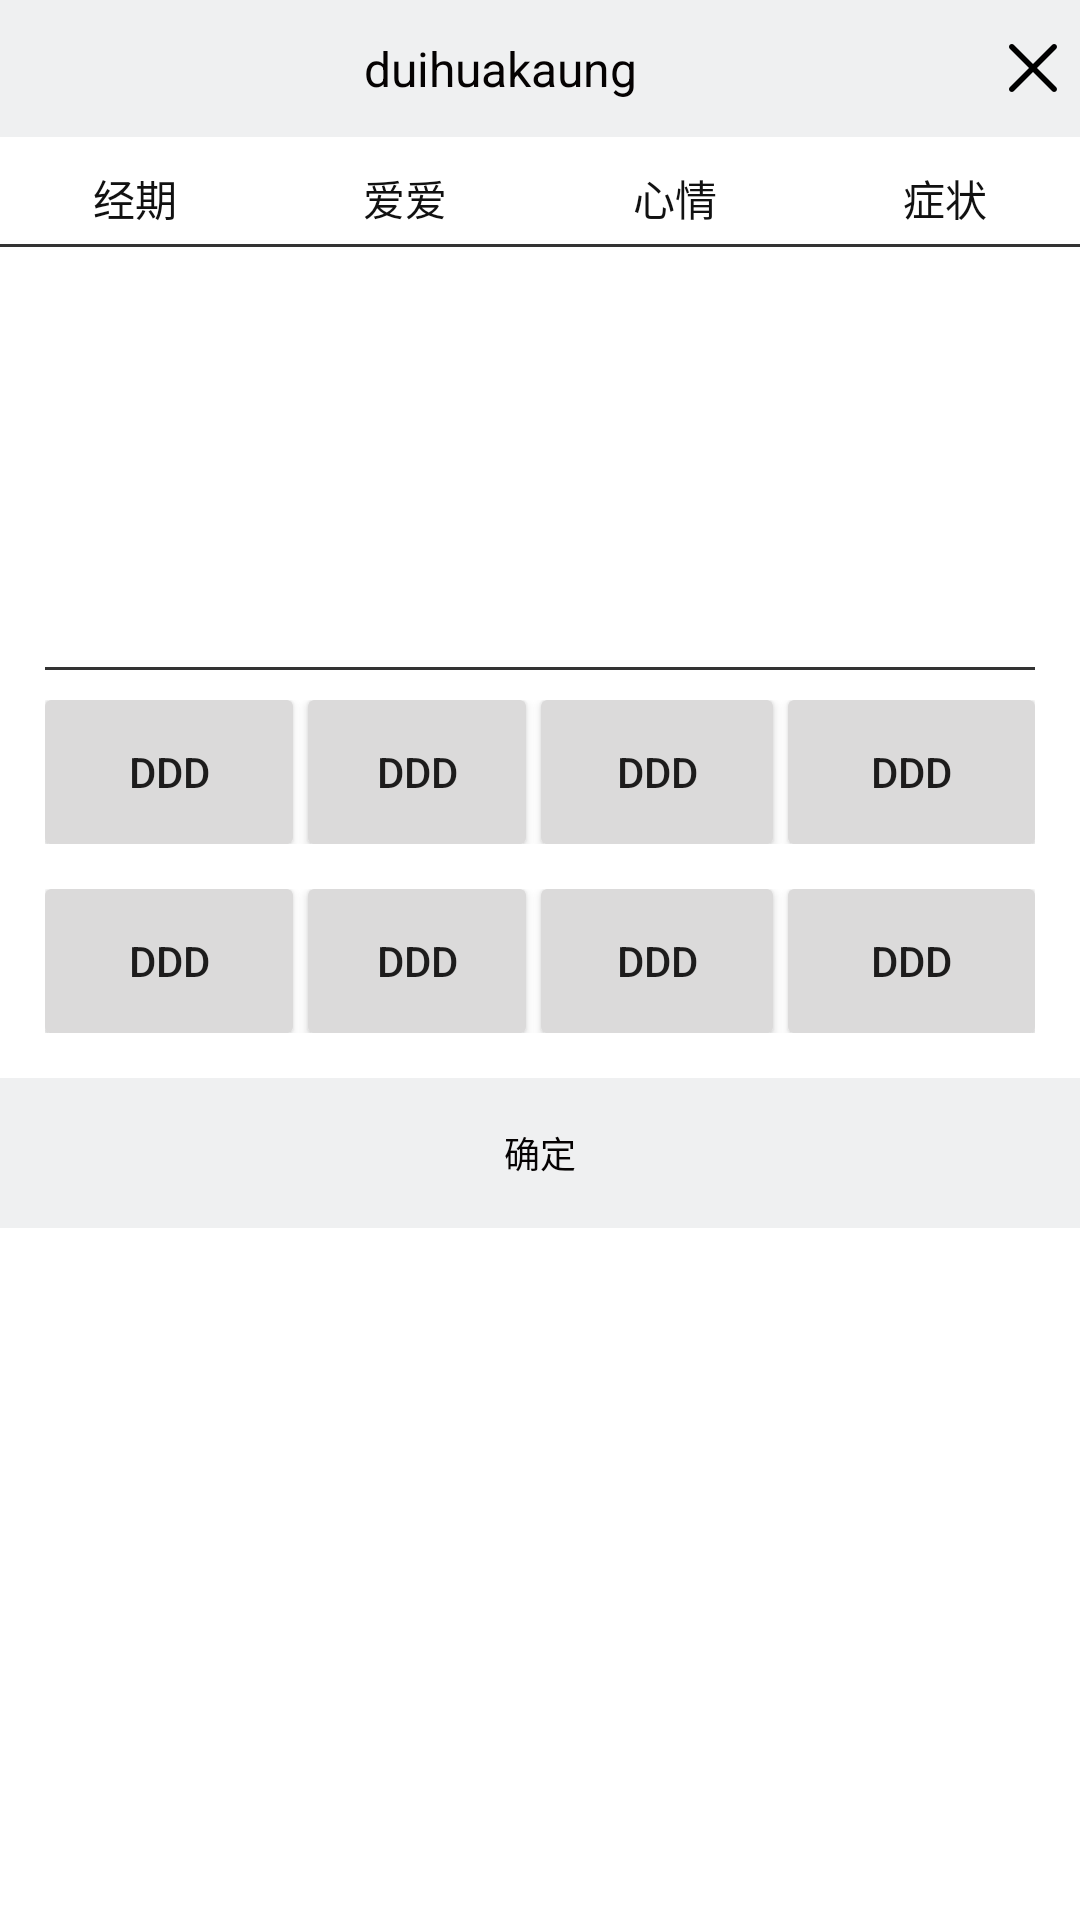

Screen size 1080x1920. Icon name, then its box in pixels as (x1, y1, x2, y2):
quxiao: (1009, 44, 1057, 92)
